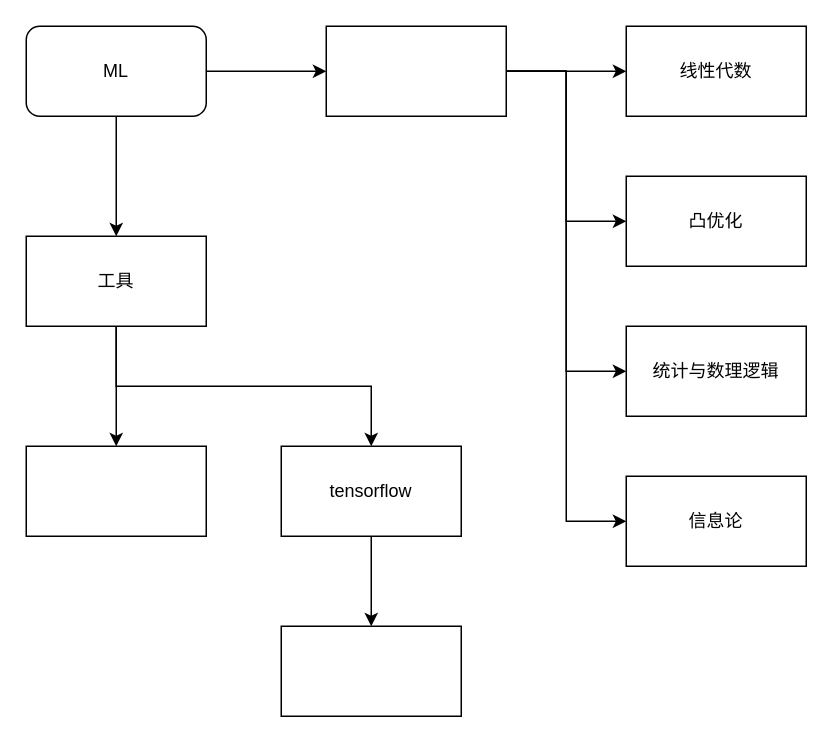
This 833x743 diagram has some shape labels left out. The shapes that lost their labels are listed below. From the top down, each one's centre as x and y in pixels, then its label:
(415,70): 数学知识
(115,490): python
(370,670): colab
